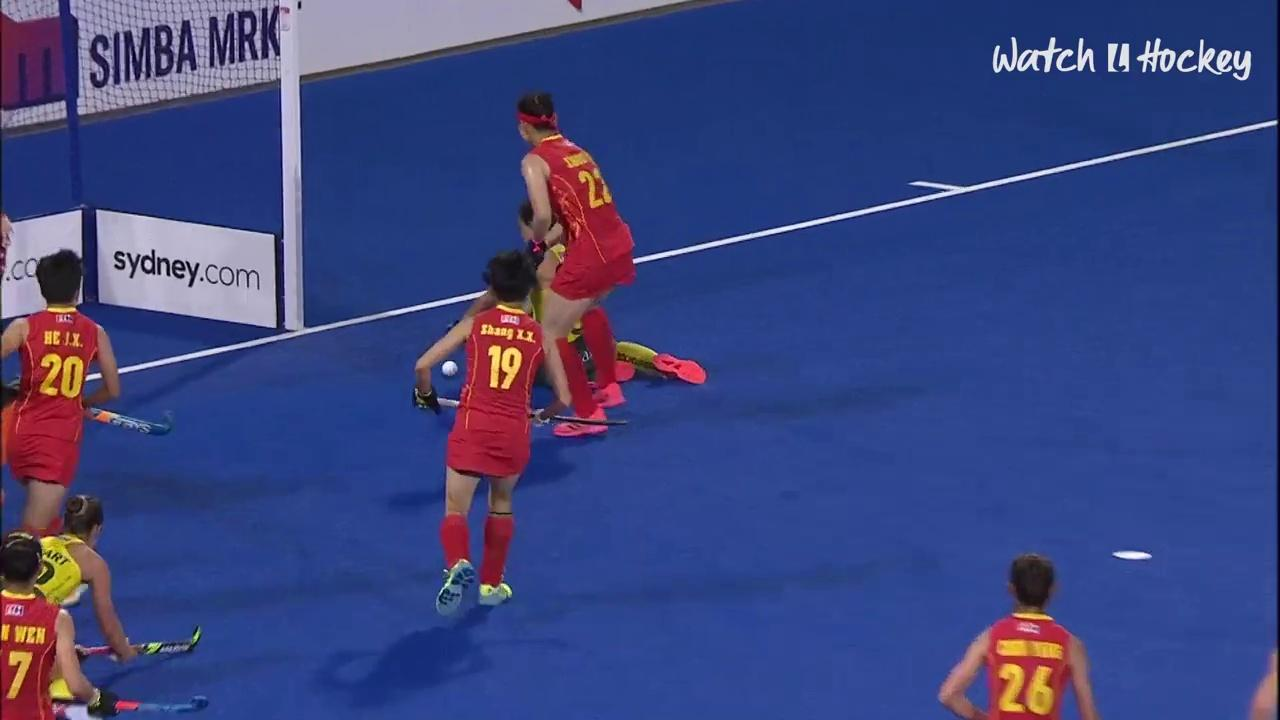ball: (432, 347, 470, 379)
